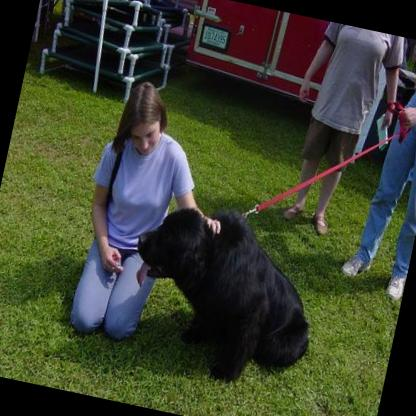Newfoundland: (111, 195, 331, 396)
